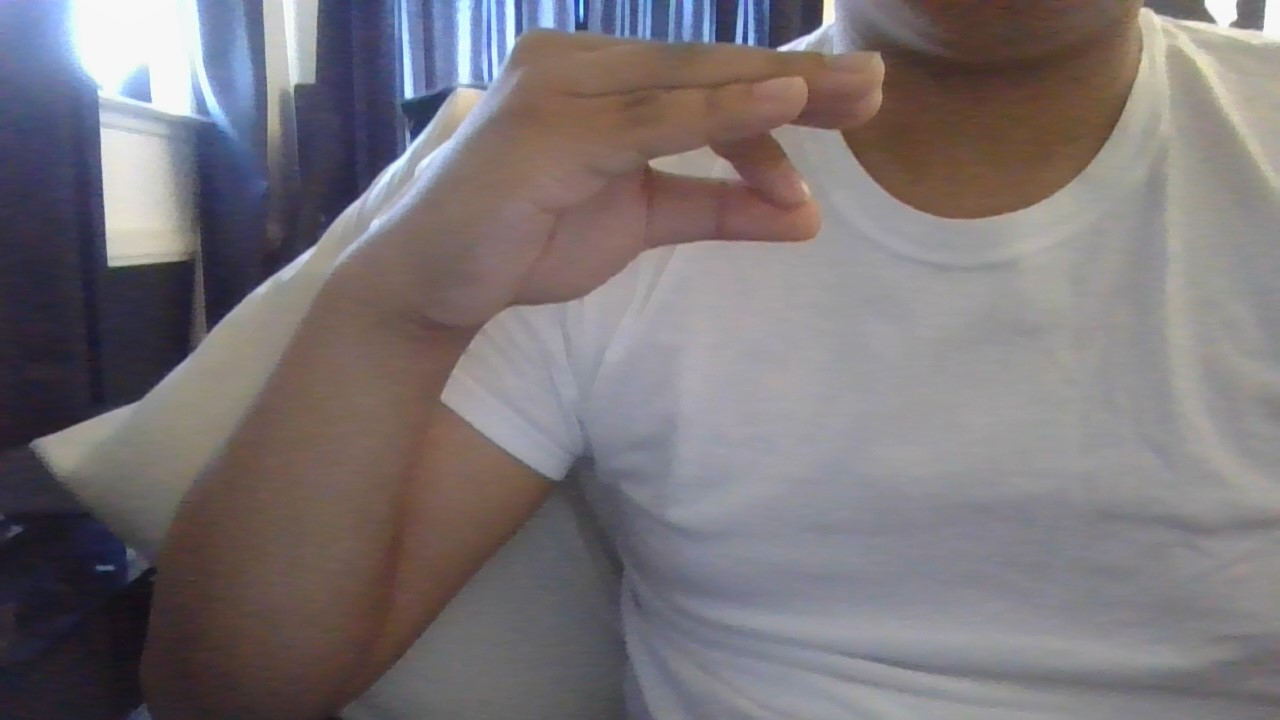z: (336, 8, 916, 349)
